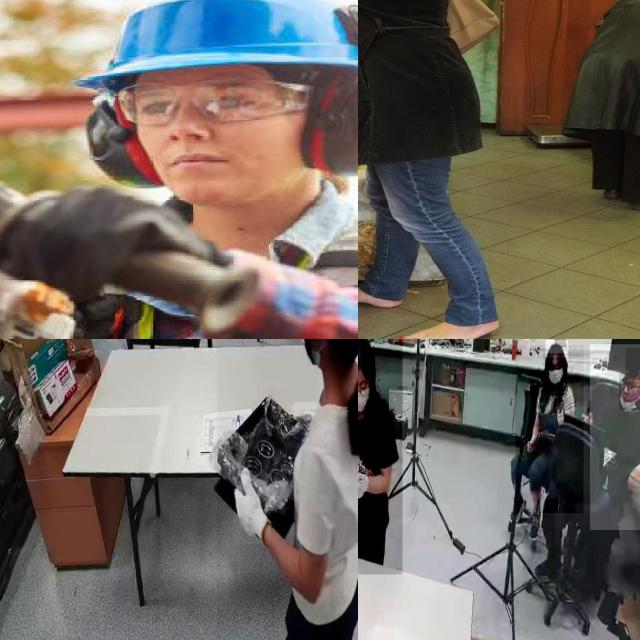Barefoots: (397, 319, 499, 339), (358, 287, 403, 308)
Ear-protection: (64, 41, 358, 208)
face_mask: (358, 339, 403, 575), (544, 353, 568, 396), (358, 367, 375, 414)
face_nomask: (619, 372, 640, 410)
glasses: (106, 74, 323, 131), (619, 376, 639, 394), (358, 386, 369, 401)
hand_glove: (234, 460, 272, 546), (358, 452, 367, 508)
head_helmet: (66, 0, 358, 112)
head_nohelmet: (358, 339, 374, 377), (625, 348, 640, 380), (546, 340, 568, 358)
person: (0, 0, 358, 339), (217, 339, 358, 640), (516, 345, 584, 514), (590, 344, 640, 530)
shoes: (527, 505, 543, 543)
